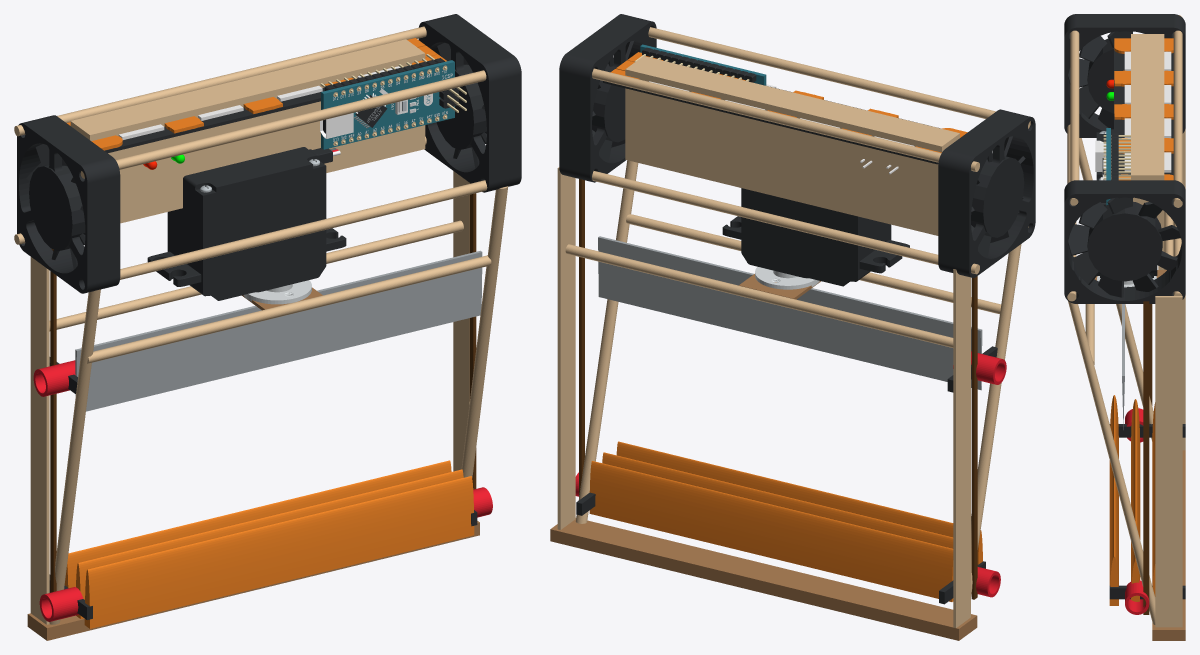
The model's file is tinker.obj.
3 views of the same model, side by side, from view 1: azimuth 30°, elevation 25°; view 2: azimuth 150°, elevation 25°; view 3: azimuth 270°, elevation 25° (orthographic). The views are drawn at different scales.
Visible parts, largest first — view 1: group_0_14860437, group_0_2829873, group_0_16089887, group_0_10988977, group_0_2980234, group_0_6306067, group_0_15277357, group_0_16448250, group_0_11107152, group_0_14541540, group_0_16311991; view 2: group_0_14860437, group_0_2829873, group_0_16089887, group_0_10988977, group_0_11107152, group_0_6306067, group_0_15277357, group_0_14541540; view 3: group_0_14860437, group_0_2829873, group_0_16089887, group_0_6306067, group_0_16448250, group_0_11107152, group_0_15277357, group_0_16311991, group_0_10988977, group_0_2980234.
Part boxes in pixels (x1,y1,x2,y2): group_0_14860437: (14,26,508,624); group_0_2829873: (17,14,521,619); group_0_16089887: (64,38,474,628); group_0_10988977: (75,106,482,411); group_0_2980234: (321,60,454,149); group_0_6306067: (50,183,476,592); group_0_15277357: (33,149,492,621); group_0_16448250: (118,66,452,155); group_0_11107152: (27,287,479,640); group_0_14541540: (243,98,414,304); group_0_16311991: (320,54,466,145); group_0_14860437: (557,27,1030,627); group_0_2829873: (559,14,1035,604); group_0_16089887: (589,52,982,601); group_0_10988977: (598,236,982,390); group_0_11107152: (550,274,977,640); group_0_6306067: (579,179,977,599); group_0_15277357: (575,351,1006,597); group_0_14541540: (755,266,819,289); group_0_14860437: (1067,15,1185,627); group_0_2829873: (1064,14,1185,599); group_0_16089887: (1109,38,1173,605); group_0_6306067: (1143,301,1152,614); group_0_16448250: (1095,51,1171,180); group_0_11107152: (1094,270,1185,640); group_0_15277357: (1125,408,1149,614); group_0_16311991: (1103,135,1130,179); group_0_10988977: (1102,169,1124,429); group_0_2980234: (1106,128,1110,205).
Bounding box in the file's own units: 147 × 161 × 40.
